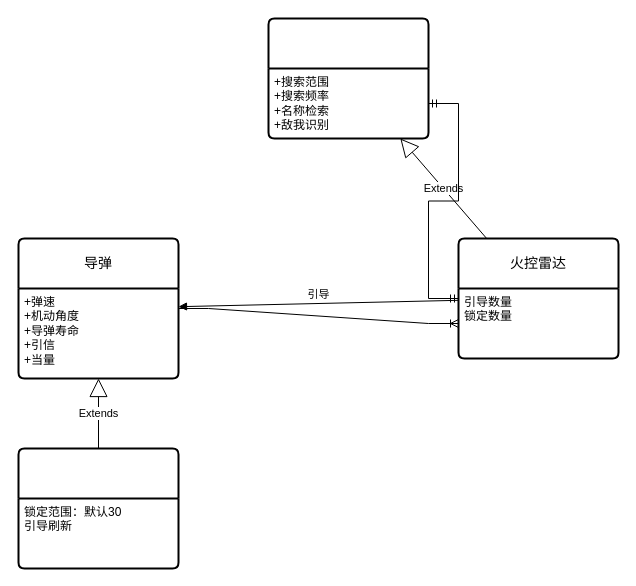
Image size: 636x586. Some labels were removed from this diagram. The box of each missing label's shape, as (x1, y1, x2, y2) in pixels:
重型导弹: (17, 447, 179, 569)
预警/搜索雷达: (267, 17, 429, 139)
